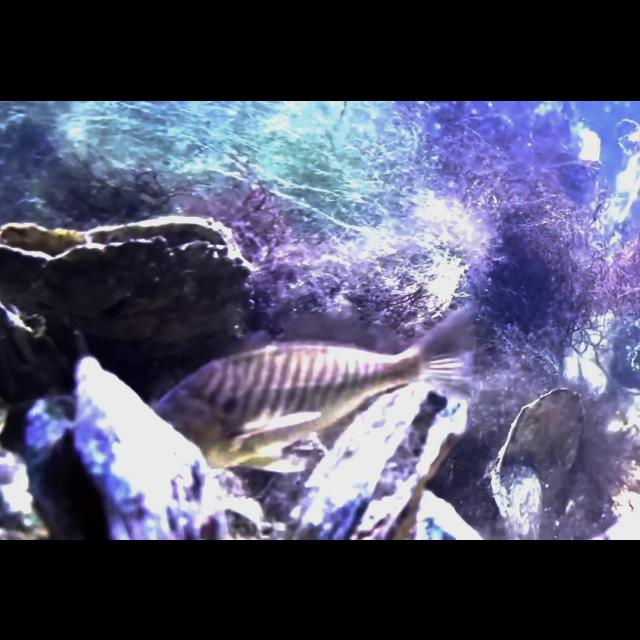Oyster-Closed: (497, 386, 588, 520)
Oyster-Open: (24, 352, 226, 540), (1, 212, 256, 356), (290, 376, 468, 540)
